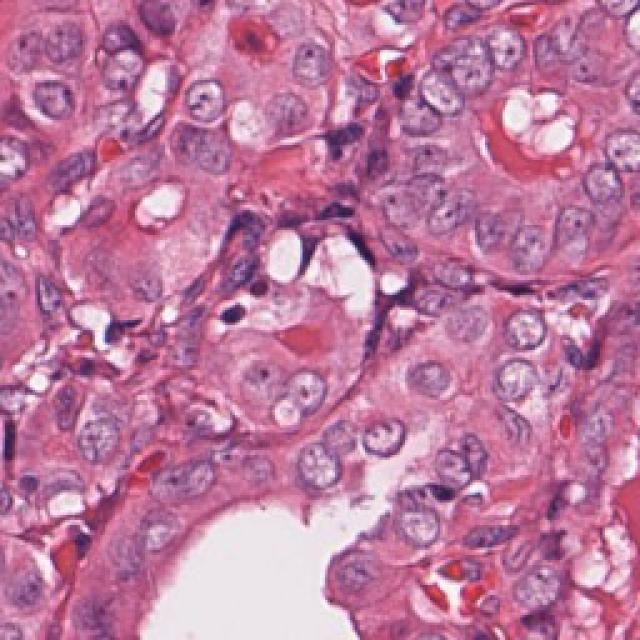abnormal: (248, 68, 340, 185), (29, 39, 112, 150), (0, 516, 73, 633), (491, 530, 571, 624), (423, 416, 494, 518), (339, 170, 429, 248), (385, 47, 469, 130), (427, 31, 514, 109), (568, 106, 640, 194), (88, 21, 153, 114), (452, 347, 542, 413), (164, 443, 256, 507), (260, 368, 346, 433), (62, 416, 147, 481), (461, 5, 539, 75), (552, 158, 640, 218), (168, 62, 233, 143), (494, 225, 568, 293), (289, 431, 365, 497), (406, 173, 476, 243), (184, 391, 248, 465), (387, 506, 468, 562), (347, 418, 424, 467)
